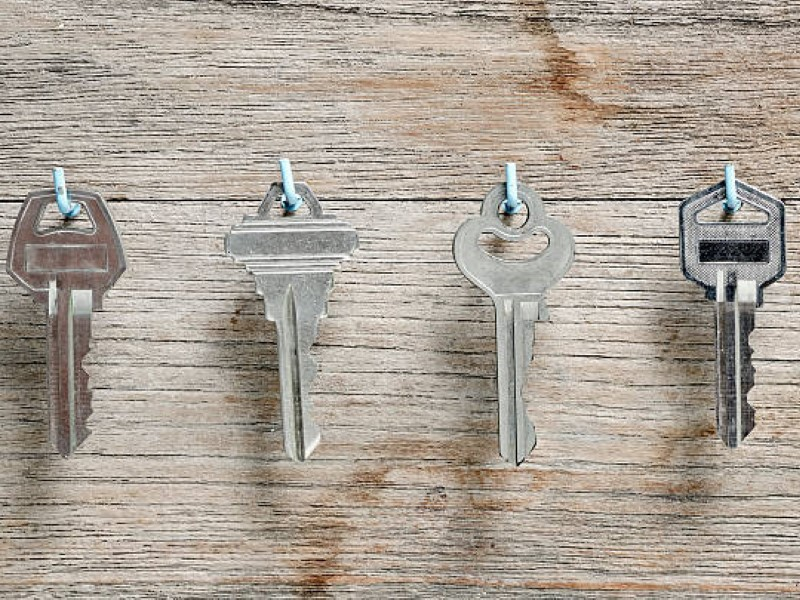key: (219, 173, 367, 470), (451, 173, 578, 468), (9, 186, 128, 463), (676, 173, 788, 450)
